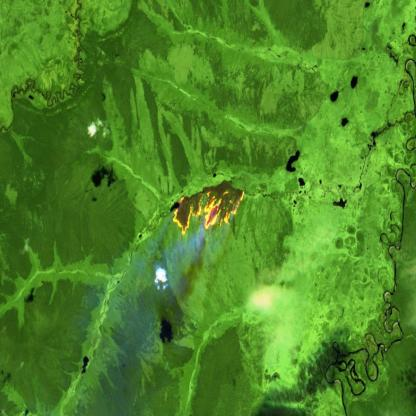fire: (170, 182, 247, 239)
